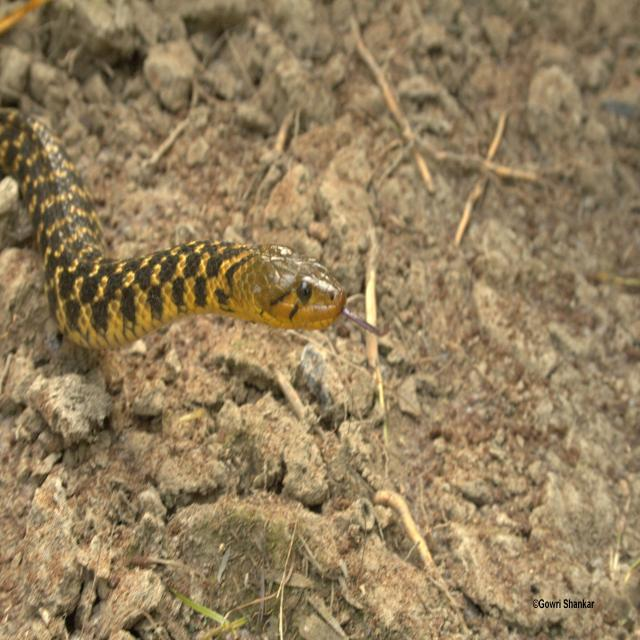Snake: (0, 78, 392, 358)
